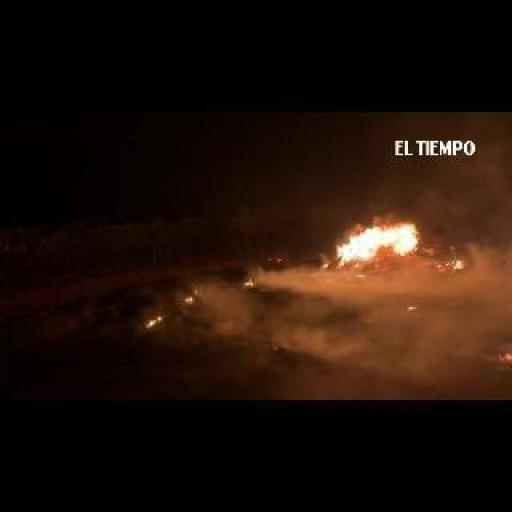smoke: (314, 220, 424, 278), (146, 315, 163, 328), (454, 258, 466, 267), (245, 275, 254, 285), (406, 302, 418, 309), (502, 350, 509, 362), (186, 294, 194, 304)
